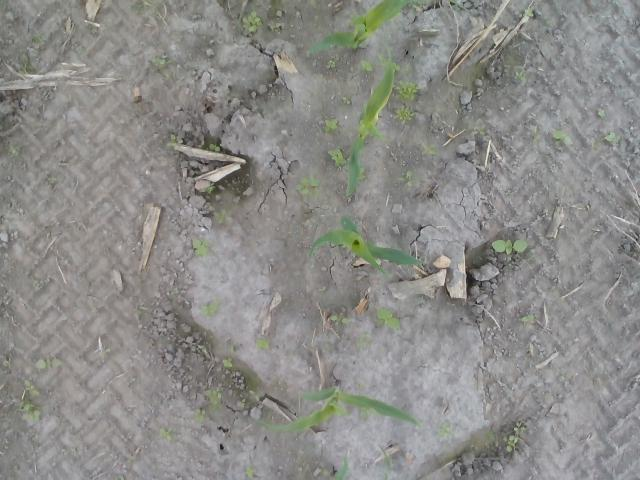Maize: (255, 382, 424, 434), (344, 48, 395, 197), (306, 214, 418, 276), (307, 0, 416, 55), (335, 447, 394, 480)
Weeds: (15, 376, 50, 426), (503, 420, 528, 454), (398, 165, 426, 192), (374, 304, 401, 331), (14, 50, 41, 76), (391, 79, 421, 102), (492, 237, 528, 256), (150, 54, 176, 80), (241, 7, 264, 36), (326, 142, 351, 168), (296, 174, 321, 198), (31, 352, 64, 370), (129, 0, 163, 17), (392, 103, 418, 125), (199, 295, 222, 319), (435, 416, 457, 440), (206, 385, 223, 412), (212, 205, 232, 226), (592, 130, 622, 144), (4, 140, 24, 160), (164, 132, 184, 152), (191, 236, 211, 256), (356, 328, 374, 350), (264, 22, 296, 34), (329, 310, 353, 326), (552, 130, 575, 146), (28, 32, 47, 49), (322, 115, 338, 135), (160, 425, 177, 443), (255, 335, 273, 352), (518, 312, 536, 328), (420, 144, 440, 158), (394, 62, 414, 74), (239, 390, 254, 406), (193, 407, 206, 424), (200, 182, 217, 195), (2, 352, 14, 370), (523, 7, 542, 18), (358, 60, 374, 73), (245, 462, 256, 480), (416, 0, 432, 12), (191, 344, 209, 354), (358, 167, 368, 183), (359, 407, 376, 416), (513, 70, 528, 80), (449, 0, 464, 9), (222, 357, 234, 368), (209, 142, 221, 153), (543, 19, 553, 32), (558, 368, 566, 384), (354, 382, 369, 390), (326, 59, 336, 71), (318, 464, 329, 474), (340, 95, 352, 104), (48, 175, 58, 185), (318, 286, 328, 296), (228, 343, 238, 353), (112, 474, 128, 480), (127, 454, 135, 464), (596, 110, 606, 118), (479, 127, 486, 138), (417, 256, 424, 266), (374, 258, 382, 266)
